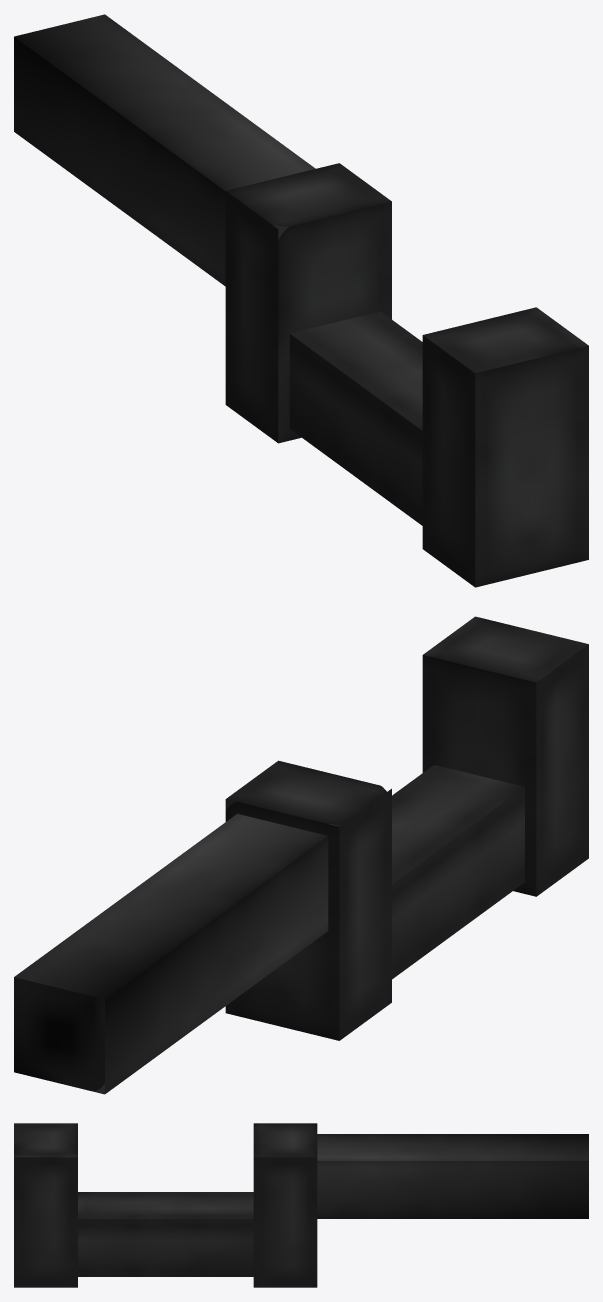
The model's file is extended_barrel.obj.
3 views of the same model, one above another, from view 1: azimuth 30°, elevation 25°; view 2: azimuth 150°, elevation 25°; view 3: azimuth 270°, elevation 25° (orthographic). The views are drawn at different scales.
Parts seen in each view (by area): view 1: long_barrel; view 2: long_barrel; view 3: long_barrel.
Boxes of the visible parts, bbox=[...] form: long_barrel: bbox=[14, 14, 588, 587]; long_barrel: bbox=[14, 616, 588, 1094]; long_barrel: bbox=[14, 1123, 588, 1287].
Size of the model in its own units: 0.1562 by 0.2812 by 1.12.
